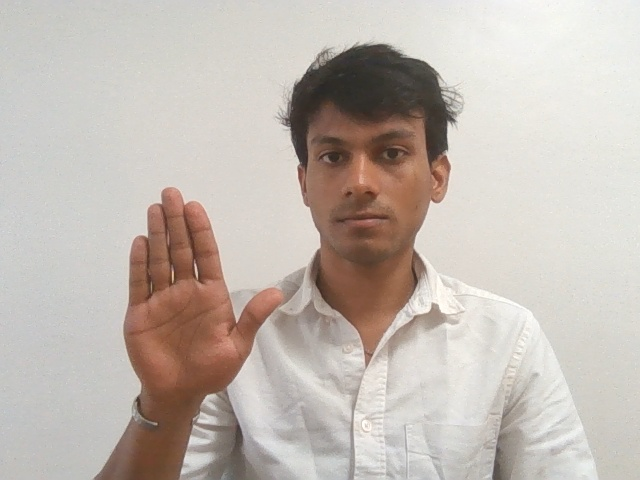Hello: (108, 183, 290, 443)
